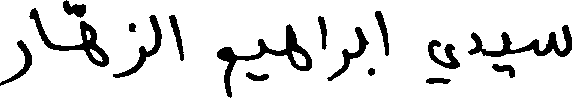ا: (30, 6, 50, 66), (169, 12, 184, 61), (374, 9, 389, 57), (315, 14, 326, 79)
ب: (354, 10, 374, 76)
د: (469, 30, 481, 55)
ر: (0, 39, 31, 86), (326, 46, 349, 81)
ز: (111, 20, 145, 78)
س: (534, 22, 570, 57)
ل: (148, 12, 160, 57)
م: (215, 45, 235, 96)
ه: (63, 19, 107, 67), (284, 22, 311, 71)
ي: (425, 37, 457, 84), (491, 29, 514, 78), (246, 36, 269, 81)
